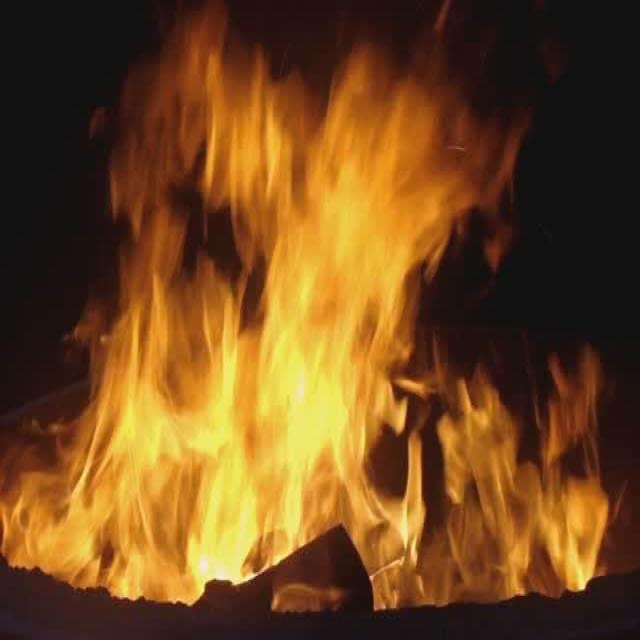Fire: (7, 16, 640, 556)
